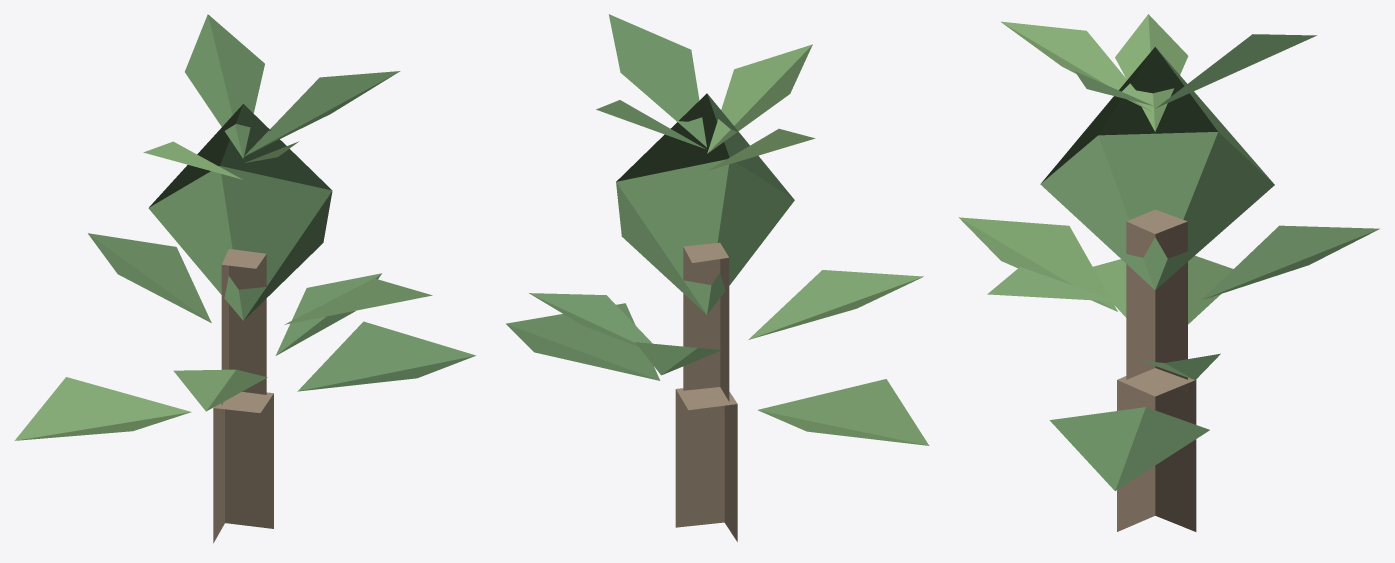
Rendered from guan.fusang@seedling__spring.glb.
3 views of the same model, side by side, from view 1: azimuth 30°, elevation 25°; view 2: azimuth 150°, elevation 25°; view 3: azimuth 270°, elevation 25° (orthographic). The views are drawn at different scales.
Parts seen in each view (by area): view 1: guan.fusang@seedling__spring; view 2: guan.fusang@seedling__spring; view 3: guan.fusang@seedling__spring.
Part boxes in pixels (x1,y1,x2,y2): guan.fusang@seedling__spring: (14,14,475,543); guan.fusang@seedling__spring: (506,14,929,541); guan.fusang@seedling__spring: (959,14,1379,531).
Size of the model in its own units: 0.2218 by 0.2226 by 0.1648.
